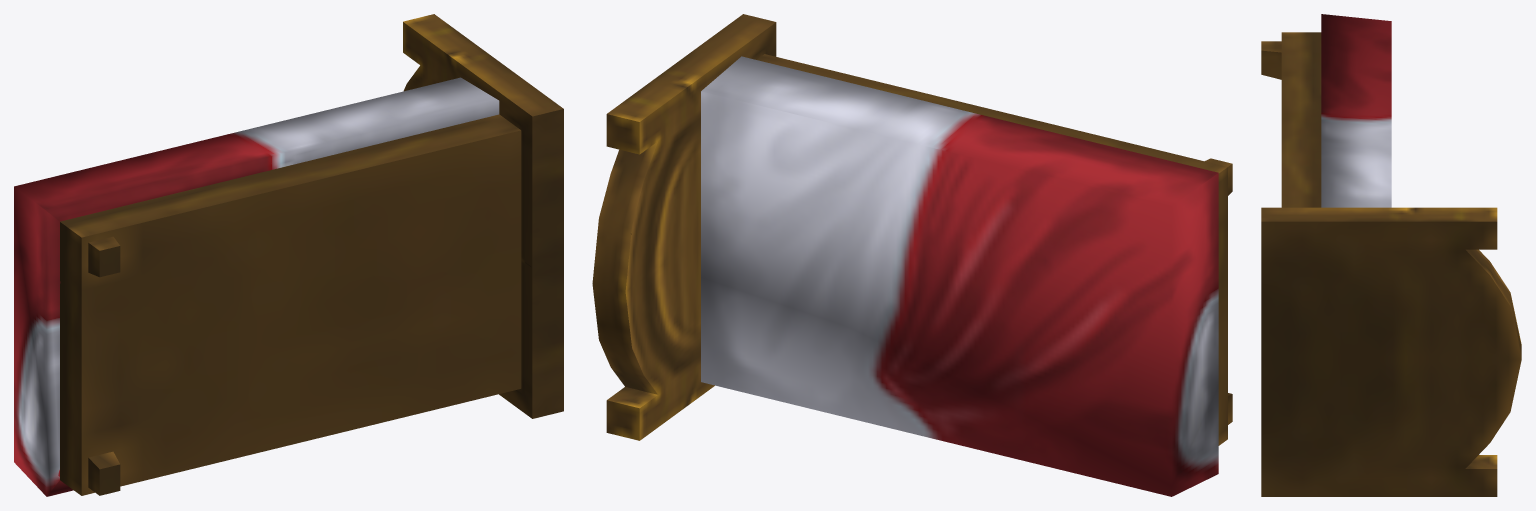
File: props_bed_red.fbx
The picture shows the model from 3 angles, left to right: view 1: azimuth 30°, elevation 25°; view 2: azimuth 150°, elevation 25°; view 3: azimuth 270°, elevation 25°; orthographic projection. The views are drawn at different scales.
Visible parts, largest first — view 1: bed_red; view 2: bed_red; view 3: bed_red.
Part boxes in pixels (box(x1,y1,x2,y2)): bed_red: box(14, 14, 563, 496); bed_red: box(592, 14, 1232, 496); bed_red: box(1261, 14, 1521, 496).
Bounding box in the file's own units: 2.14 × 1.28 × 1.09.
1 material, 1 textured.
